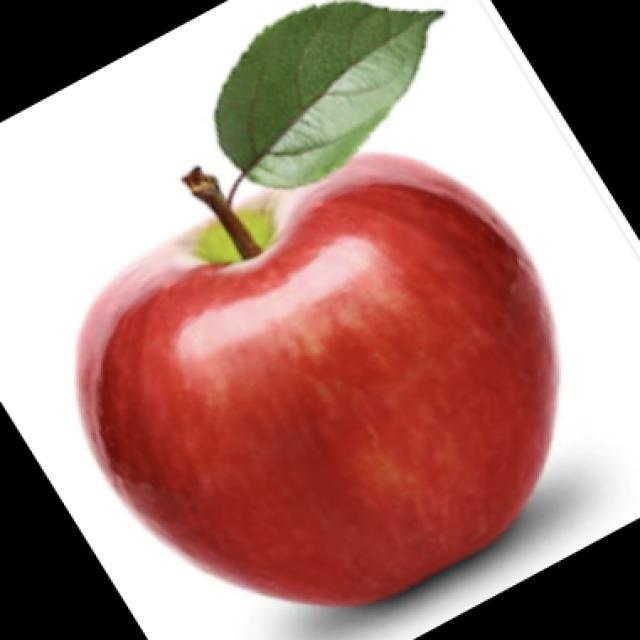Fresh Apple: (57, 152, 590, 616)
